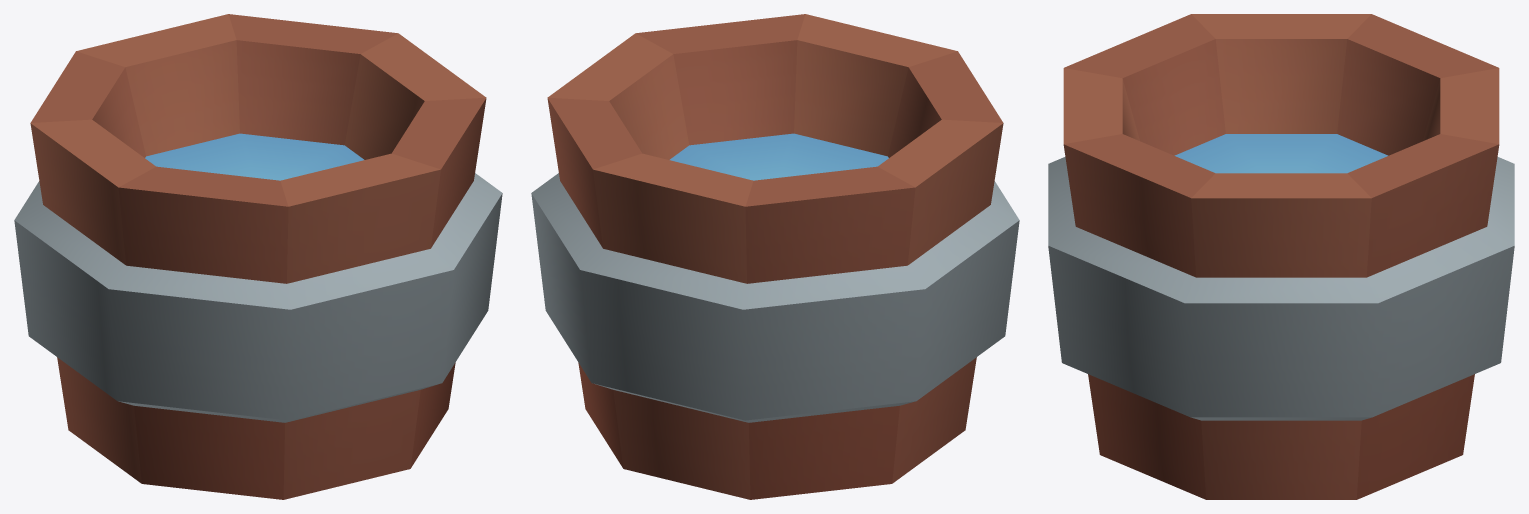
The model's file is bucket_water.glb.
3 views of the same model, side by side, from view 1: azimuth 30°, elevation 25°; view 2: azimuth 150°, elevation 25°; view 3: azimuth 270°, elevation 25° (orthographic). The views are drawn at different scales.
Visible parts, largest first — view 1: bucket_water; view 2: bucket_water; view 3: bucket_water.
Boxes of the visible parts, x1,y1,x2,y2 form: bucket_water: [14, 14, 502, 499]; bucket_water: [531, 14, 1019, 499]; bucket_water: [1048, 14, 1514, 499].
Bounding box in the file's own units: 0.14 × 0.105 × 0.14.
1 material, 1 textured.
